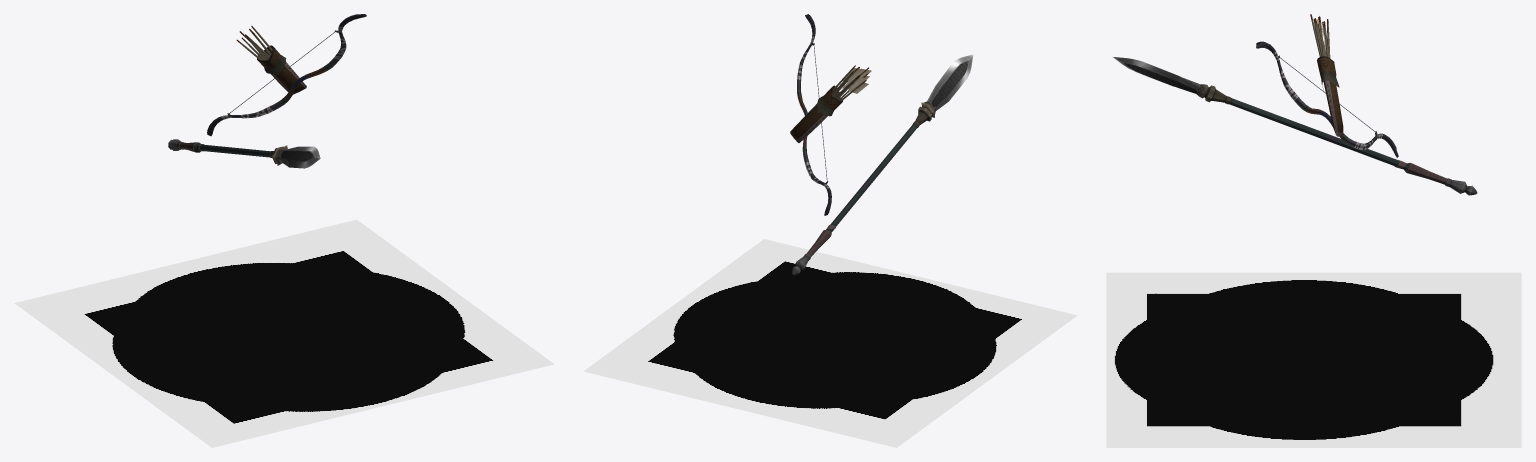
3 views of the same model, side by side, from view 1: azimuth 30°, elevation 25°; view 2: azimuth 150°, elevation 25°; view 3: azimuth 270°, elevation 25° (orthographic). The views are drawn at different scales.
Visible parts, largest first — view 1: yinyingobj, polySurface49, dsdf; view 2: yinyingobj, dsdf, polySurface49; view 3: yinyingobj, dsdf, polySurface49.
Boxes of the visible parts, x1=… form: yinyingobj: x1=14, y1=219, x2=554, y2=447; polySurface49: x1=207, y1=14, x2=366, y2=136; dsdf: x1=168, y1=139, x2=320, y2=168; yinyingobj: x1=583, y1=239, x2=1077, y2=447; dsdf: x1=792, y1=54, x2=973, y2=275; polySurface49: x1=790, y1=14, x2=871, y2=215; yinyingobj: x1=1106, y1=272, x2=1521, y2=447; dsdf: x1=1112, y1=56, x2=1477, y2=195; polySurface49: x1=1256, y1=14, x2=1398, y2=157.
Size of the model in its own units: 140 by 128 by 140.
2 materials, 2 textured.
